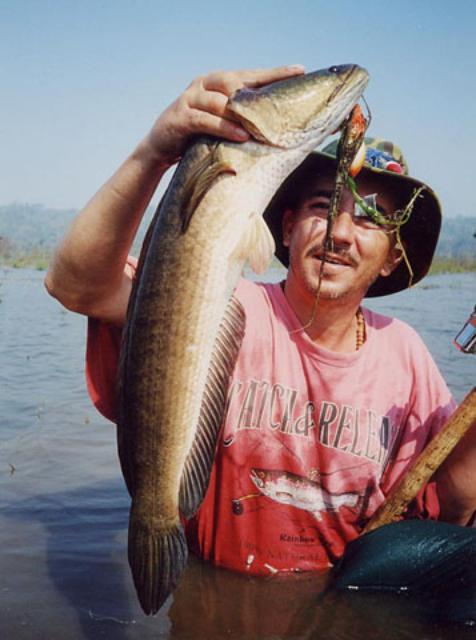Mulut: (304, 45, 386, 138)
Sirip Anal: (168, 288, 258, 534)
Sirip Dada: (159, 140, 247, 252)
Sirip Ekor: (104, 490, 212, 626)
Sirip Perut: (234, 196, 289, 290)
Sirip Punggung: (103, 215, 156, 510)
